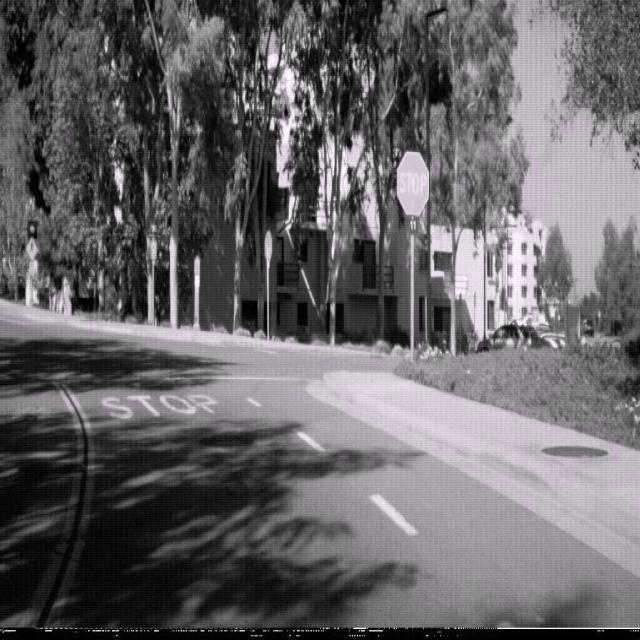stop_sign: (396, 150, 429, 216)
